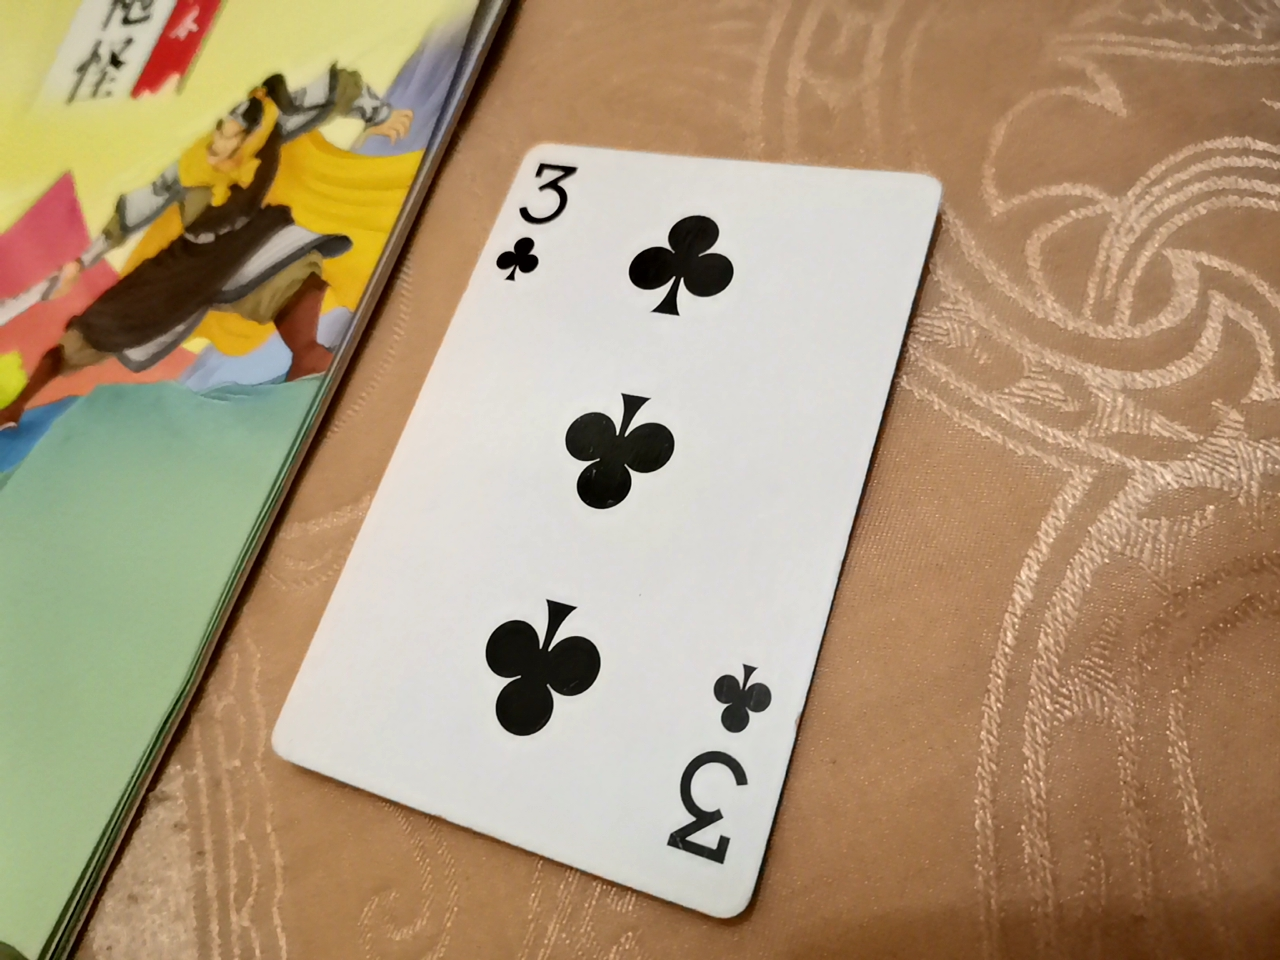mh 3: (293, 178, 940, 950)
